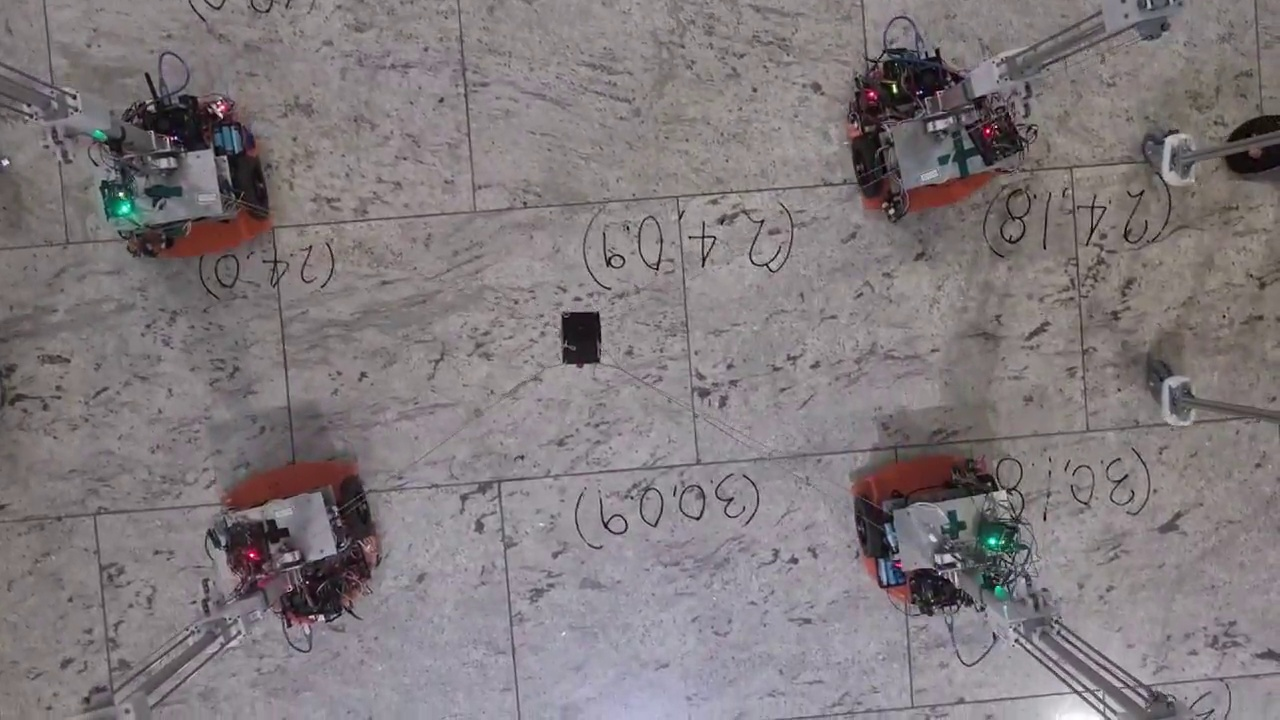e0: (560, 312, 602, 365)
r1: (853, 472, 1005, 560)
r2: (849, 112, 1026, 199)
r3: (112, 156, 269, 240)
r4: (223, 473, 374, 570)
y_+_axis_vector: (677, 168, 1070, 197)
y_-_axis_vector: (272, 197, 677, 227)
